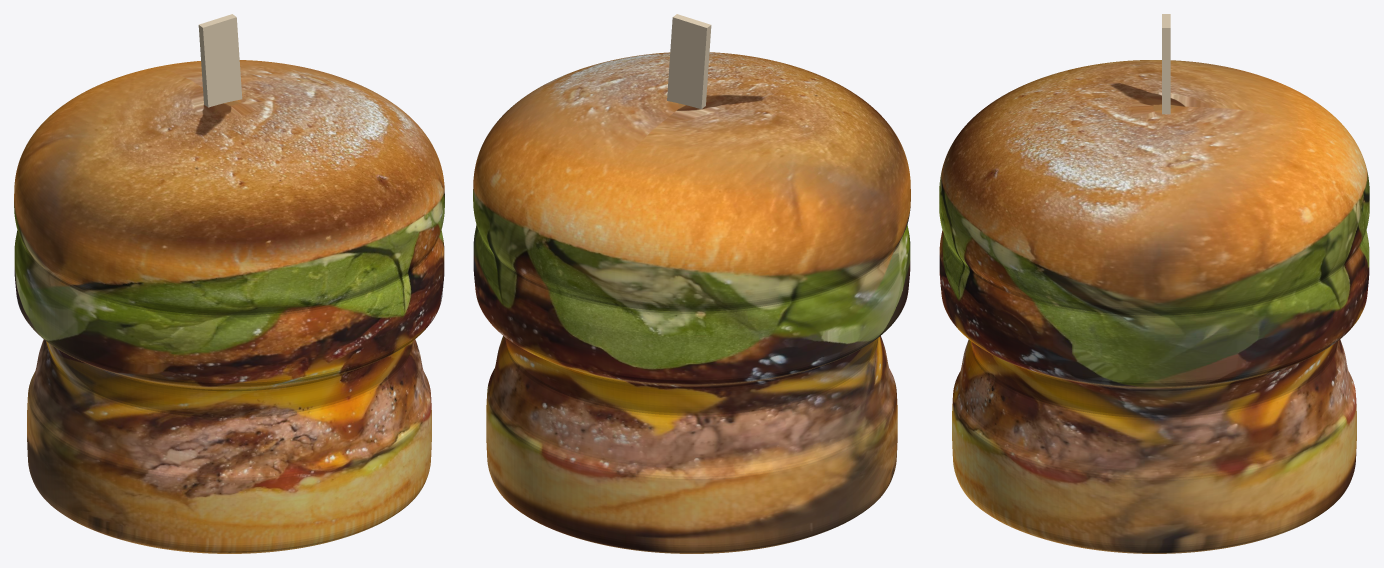
File: el-padre-burger.glb
3 views of the same model, side by side, from view 1: azimuth 30°, elevation 25°; view 2: azimuth 150°, elevation 25°; view 3: azimuth 270°, elevation 25° (orthographic).
Parts seen in each view (by area): view 1: hamburguer, palito; view 2: hamburguer, palito; view 3: hamburguer, palito.
Boxes of the visible parts, left/top/right/bottom form: hamburguer: left=14, top=60, right=444, bottom=553; palito: left=198, top=14, right=242, bottom=107; hamburguer: left=473, top=52, right=910, bottom=553; palito: left=667, top=14, right=711, bottom=109; hamburguer: left=939, top=60, right=1369, bottom=553; palito: left=1162, top=14, right=1170, bottom=114.
Bounding box in the file's own units: 0.11 × 0.1277 × 0.11.
Materials: 2 (1 with a texture image).
